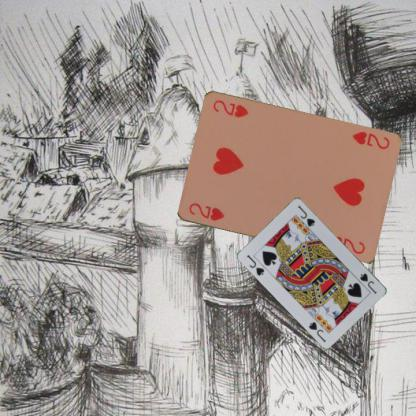2h: (349, 129, 391, 151), (186, 200, 225, 223)
Js: (244, 252, 266, 277), (358, 271, 378, 296)
